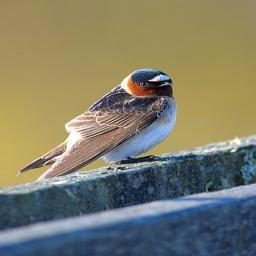Swallow: (16, 68, 179, 185)
